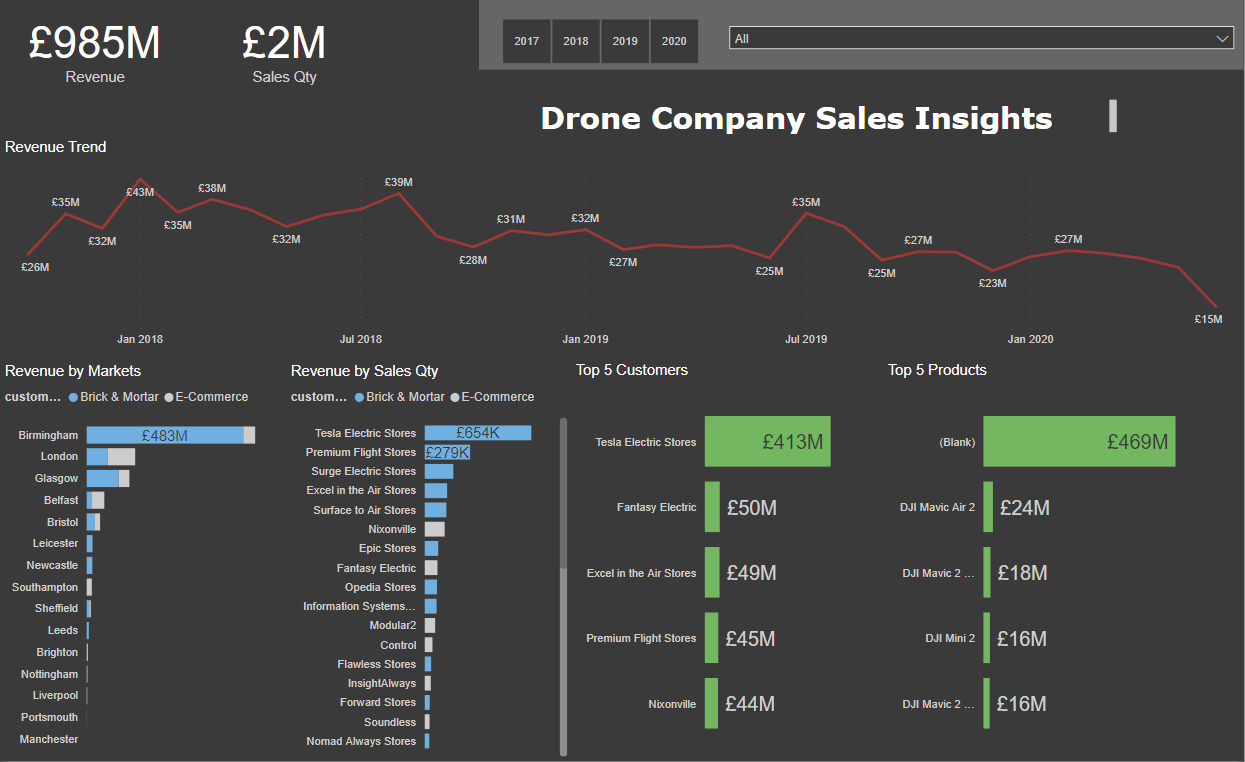

Layout of this report page (visuals, bound fields, positions):
{"tool":"powerbi","page":{"name":"Key Insights","canvas":[1340,820],"ordinal":0},"visuals":[{"type":"card","fields":{"Values":["base measures.Revenue"]},"box":[0,1,205.2,101.5],"z":0},{"type":"card","fields":{"Values":["base measures.Sales Qty"]},"box":[205.2,1,204.1,101.5],"z":1000},{"type":"barChart","title":"Revenue by Markets","fields":{"Y":["base measures.Revenue"],"Category":["sales markets.markets_name"],"Series":["sales customers.customer_type"]},"box":[0,390.5,307.6,429.5],"z":2000},{"type":"barChart","title":"Revenue by Sales Qty","fields":{"Y":["base measures.Sales Qty"],"Category":["sales customers.custmer_name"],"Series":["sales customers.customer_type"]},"box":[307.6,390.5,307.6,429.5],"z":3000},{"type":"slicer","fields":{"Values":["sales date.year"]},"box":[461.6,13.9,259.7,74.8],"z":4000},{"type":"barChart","title":"Top 5 Customers","fields":{"Y":["base measures.Revenue"],"Category":["sales customers.custmer_name"]},"box":[615.5,390,346.2,429.6],"z":5000},{"type":"barChart","title":"Top 5 Products","fields":{"Y":["base measures.Revenue"],"Category":["products.product_name"]},"box":[951.1,389.9,378.1,429.8],"z":6000},{"type":"slicer","fields":{"Values":["date.short_month_name"]},"box":[743.7,0,596.3,74.8],"z":7000},{"type":"lineChart","title":"Revenue Trend","fields":{"Category":["sales date.cy_date"],"Y":["base measures.Revenue"]},"box":[0,149.6,1340,231.9],"z":8000},{"type":"textbox","box":[461.6,100.4,867.7,49.2],"z":9000}]}

Visuals, with their boxes in screenshot pixels (x1, y1, x2, y2), scaled from the page's 1340x820 canvas onto the 1245x762 screenshot:
card - base measures.Revenue: bbox(0, 1, 191, 95)
card - base measures.Sales Qty: bbox(191, 1, 380, 95)
"Revenue by Markets" barChart: bbox(0, 363, 286, 761)
"Revenue by Sales Qty" barChart: bbox(286, 363, 572, 761)
slicer - sales date.year: bbox(429, 13, 670, 82)
"Top 5 Customers" barChart: bbox(572, 362, 894, 761)
"Top 5 Products" barChart: bbox(884, 362, 1235, 761)
slicer - date.short_month_name: bbox(691, 0, 1244, 70)
"Revenue Trend" lineChart: bbox(0, 139, 1244, 355)
textbox: bbox(429, 93, 1235, 139)
